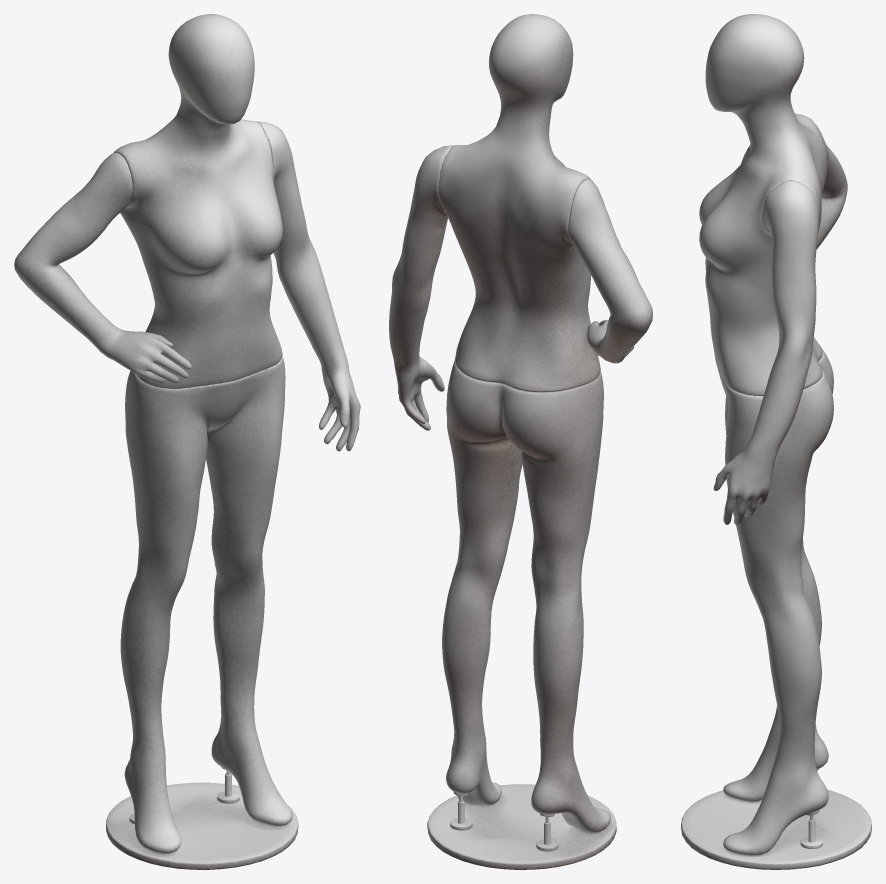
The model's file is Mannequin_FullMannequin2_0.6x1.8x0.6.glb.
The picture shows the model from 3 angles, left to right: view 1: azimuth 30°, elevation 25°; view 2: azimuth 150°, elevation 25°; view 3: azimuth 270°, elevation 25°; orthographic projection.
Parts seen in each view (by area): view 1: Women_mannequin.001_Baked; view 2: Women_mannequin.001_Baked; view 3: Women_mannequin.001_Baked.
Boxes of the visible parts, x1,y1,x2,y2 form: Women_mannequin.001_Baked: (14, 14, 360, 869); Women_mannequin.001_Baked: (389, 14, 652, 869); Women_mannequin.001_Baked: (681, 14, 871, 869).
Size of the model in its own units: 0.6775 by 1.79 by 0.3815.
1 material, 1 textured.
